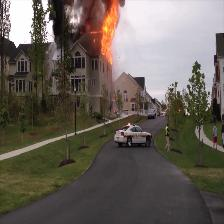fire: (98, 3, 122, 62)
smoke: (49, 1, 96, 42)
